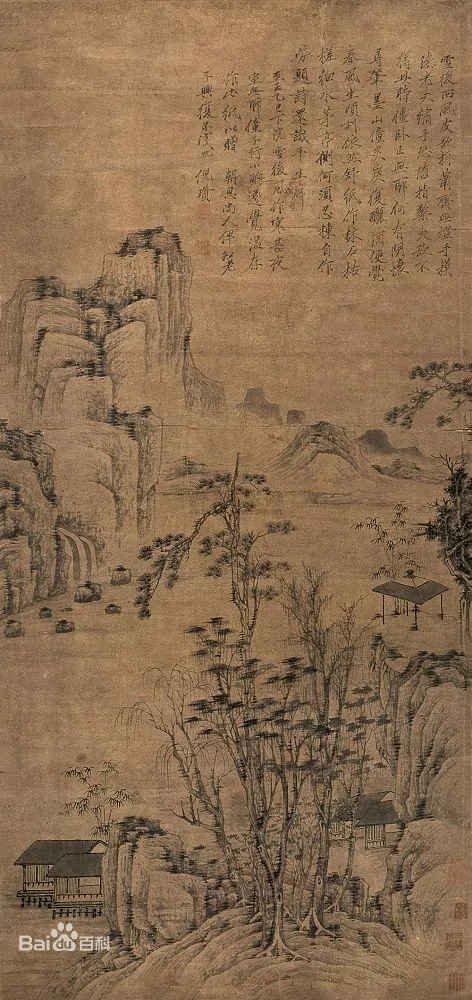booth: (367, 573, 450, 632)
house: (22, 823, 113, 924), (336, 787, 403, 851)
mountain: (12, 216, 182, 522)
pine: (382, 353, 472, 443)
tree: (168, 464, 365, 972)
